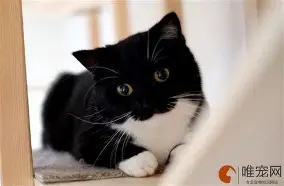奶牛猫: (73, 12, 200, 165)
